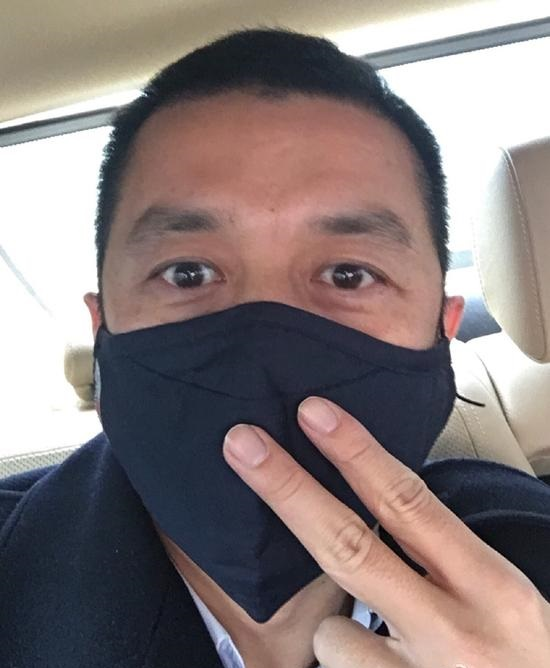face_mask: (108, 105, 436, 596)
